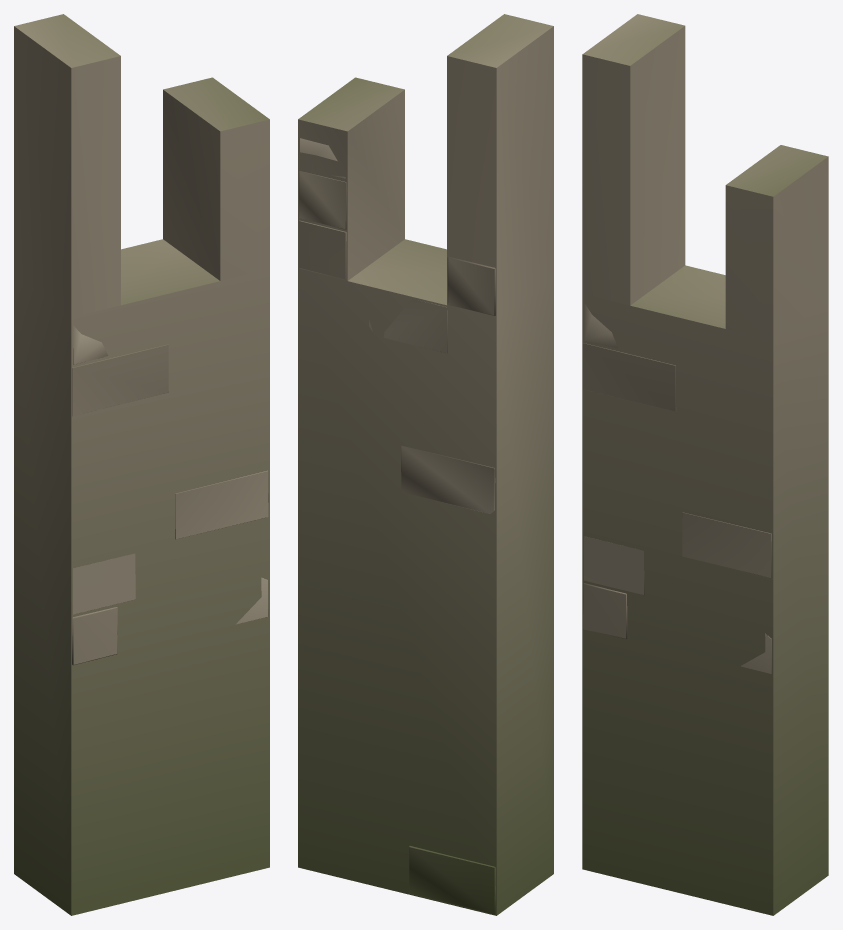
Rendered from theatre_stage_wall.glb.
3 renders of one model, left to right at view 1: azimuth 30°, elevation 25°; view 2: azimuth 150°, elevation 25°; view 3: azimuth 330°, elevation 25°, orthographic. The views are drawn at different scales.
Parts seen in each view (by area): view 1: theatre_stage_wall_far, theatre_stage_wall; view 2: theatre_stage_wall_far, theatre_stage_wall; view 3: theatre_stage_wall_far, theatre_stage_wall.
Boxes of the visible parts, left/top/right/bottom form: theatre_stage_wall_far: left=14, top=14, right=269, bottom=915; theatre_stage_wall: left=72, top=325, right=268, bottom=665; theatre_stage_wall_far: left=298, top=14, right=553, bottom=915; theatre_stage_wall: left=299, top=138, right=495, bottom=914; theatre_stage_wall_far: left=582, top=14, right=828, bottom=915; theatre_stage_wall: left=583, top=303, right=771, bottom=673.
Size of the model in its own units: 10 by 40.8 by 5.1.
